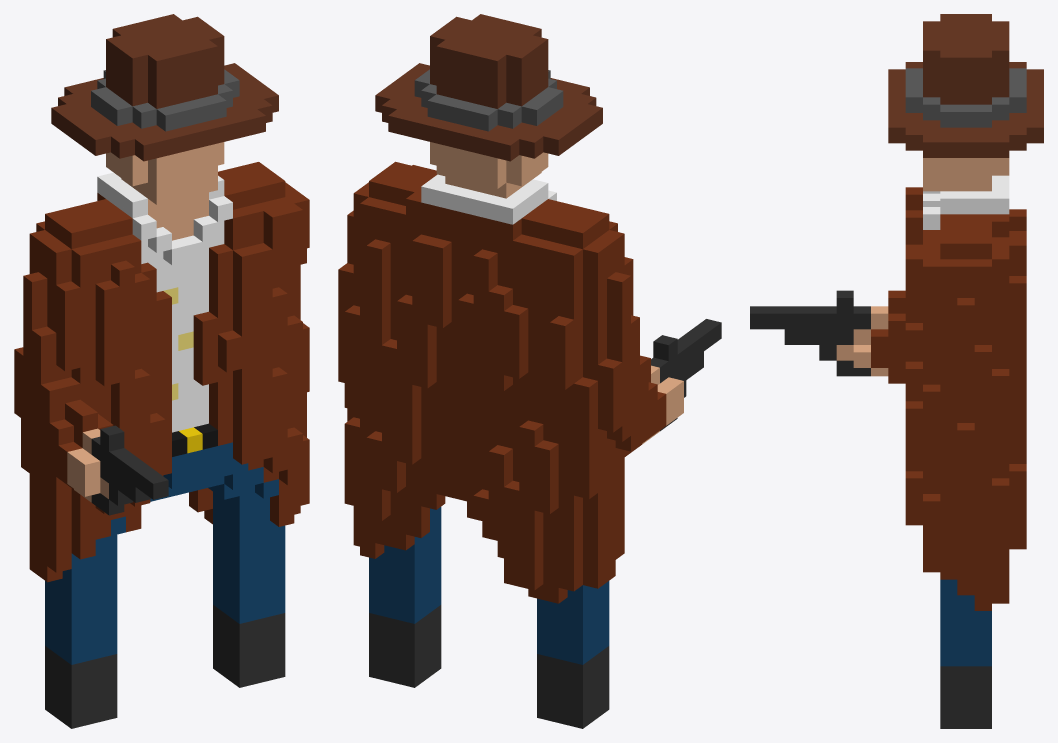
Rendered from Главный герой.obj.
3 views of the same model, side by side, from view 1: azimuth 30°, elevation 25°; view 2: azimuth 150°, elevation 25°; view 3: azimuth 270°, elevation 25° (orthographic). The views are drawn at different scales.
Bounding box in the file's own units: 1.8 × 4.1 × 1.7.
Materials: 1 (1 with a texture image).
